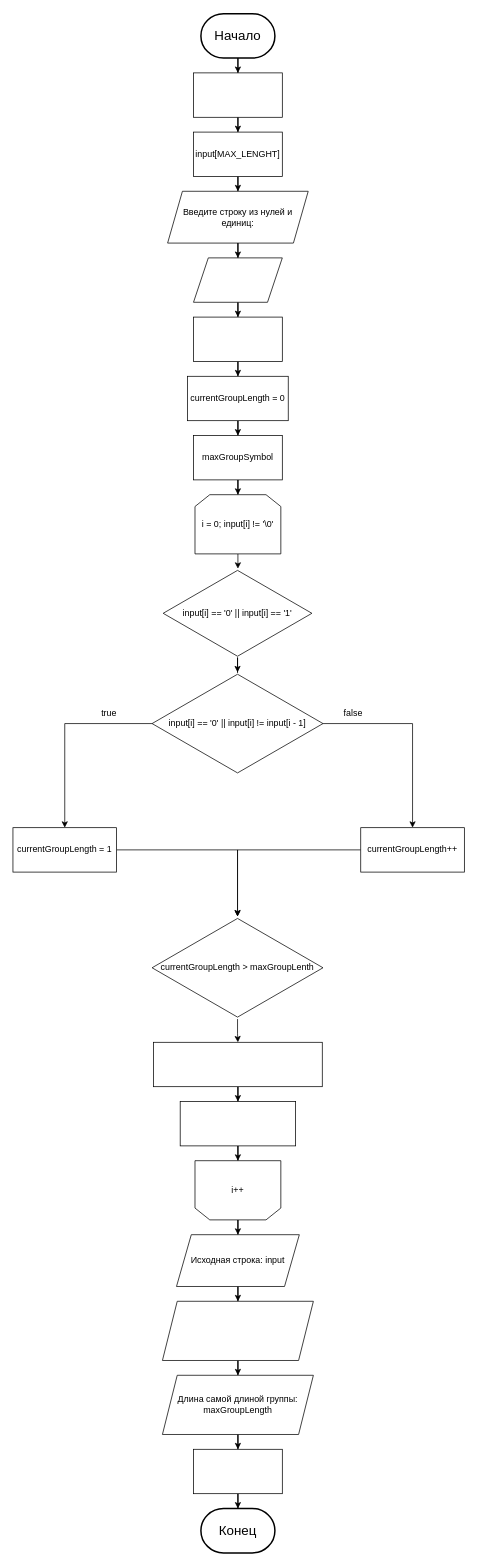
Image size: 477x1566. Some labels were removed from this diagram. Each missing label, with the centre of its shape:
MAX_LENGTH = 80: the point at 237,94
maxGroupLength = 0: the point at 237,338
maxGroupLength = currentGroupLength: the point at 237,1064
maxGroupSymbol = input[i]: the point at 237,1123
return 0: the point at 237,1471
получение input: the point at 237,279
Символ самой длиной группы: maxGroupSymbol: the point at 237,1330
